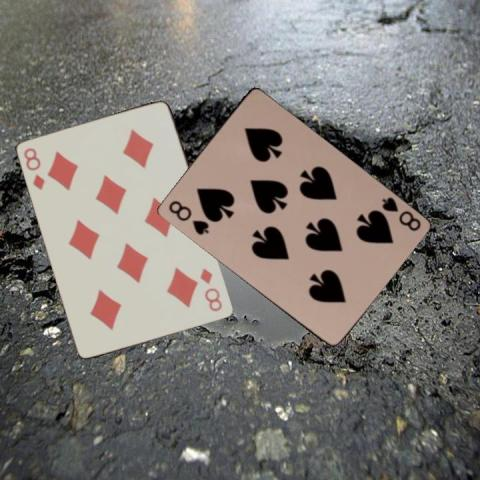8d: (197, 265, 224, 313), (20, 145, 46, 192)
8s: (378, 193, 422, 234), (165, 197, 210, 237)
